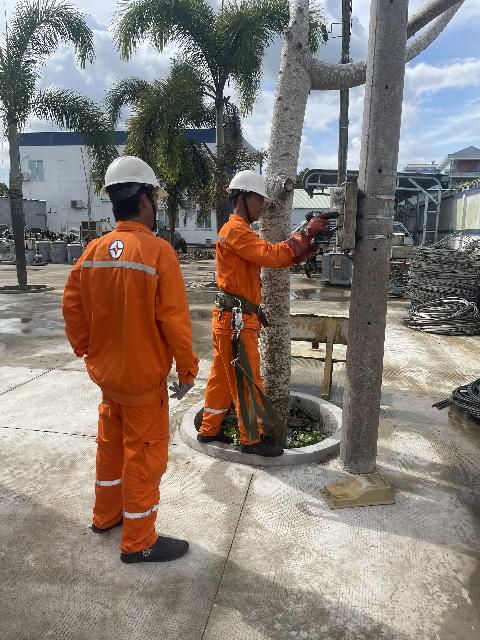gloves: (281, 217, 336, 255), (284, 233, 338, 264)
harness: (210, 281, 280, 331)
helmet: (96, 151, 177, 203), (215, 168, 270, 208)
shoes: (118, 529, 190, 565), (91, 508, 133, 535)
